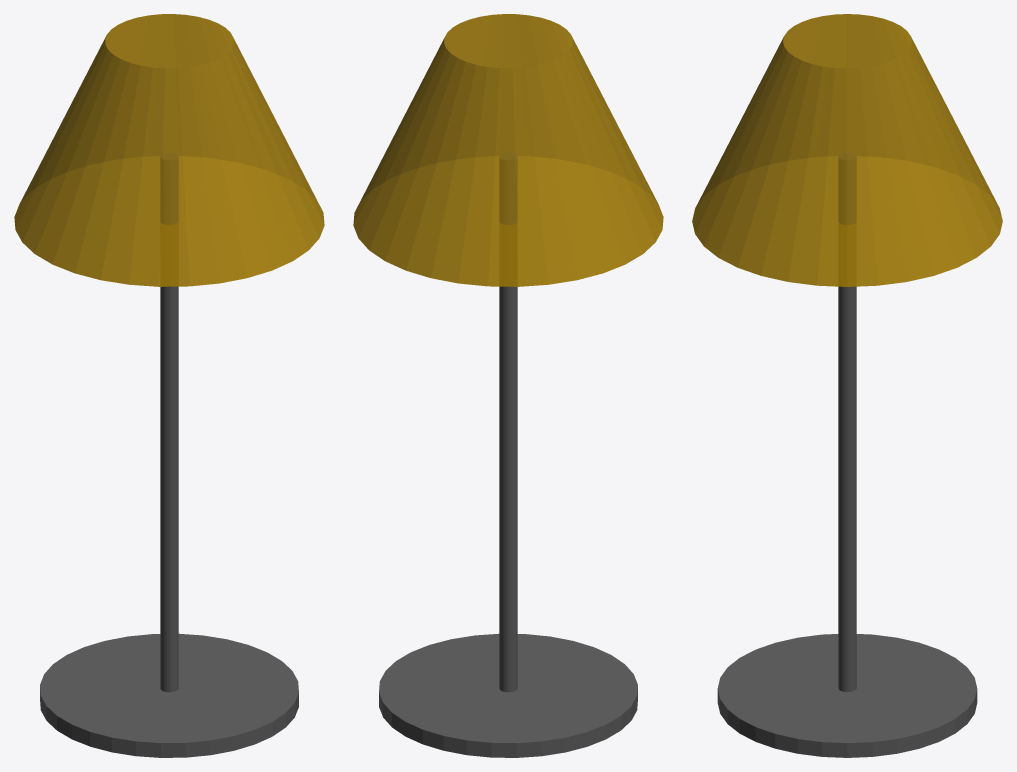
The model's file is lamp.glb.
3 renders of one model, left to right at view 1: azimuth 30°, elevation 25°; view 2: azimuth 150°, elevation 25°; view 3: azimuth 270°, elevation 25°, orthographic.
Parts seen in each view (by area): view 1: lampshade, lampbase, lamppole; view 2: lampshade, lampbase, lamppole; view 3: lampshade, lampbase, lamppole.
Part boxes in pixels (<box>): lampshade: <box>14,14,324,286</box>; lampbase: <box>40,633,298,757</box>; lamppole: <box>160,153,178,692</box>; lampshade: <box>353,14,663,286</box>; lampbase: <box>379,633,637,757</box>; lamppole: <box>499,153,517,692</box>; lampshade: <box>692,14,1002,286</box>; lampbase: <box>717,634,977,757</box>; lamppole: <box>838,153,856,692</box>.
Size of the model in its own units: 1.97 by 4.63 by 1.97.
